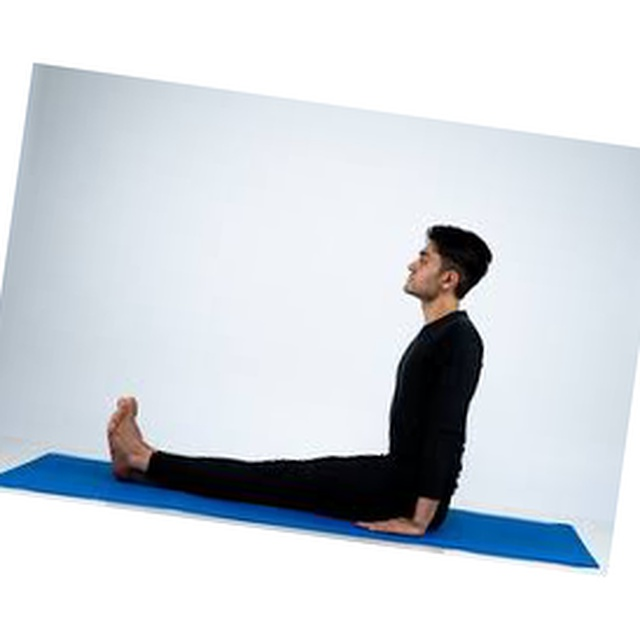Staff_Pose: (106, 224, 494, 538)
